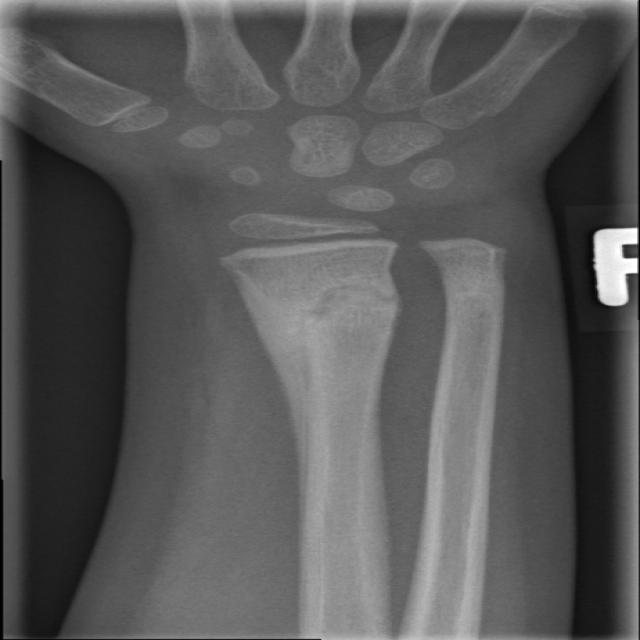radius fracture: (212, 284, 429, 402)
